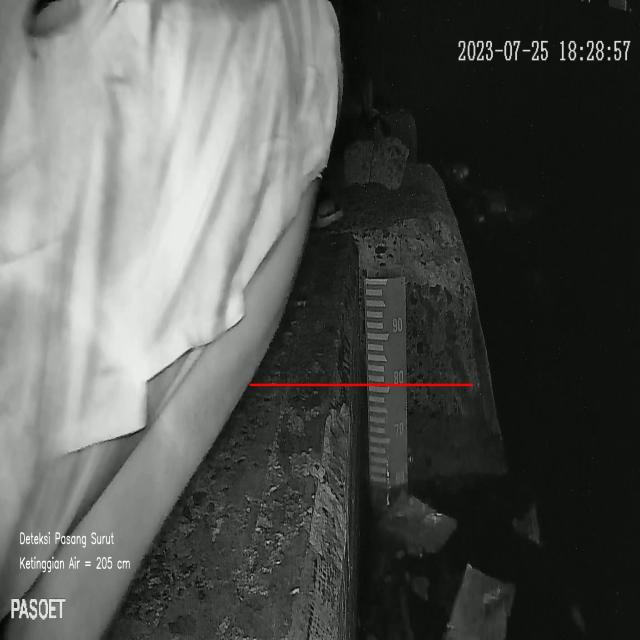water-meter: (361, 269, 414, 508)
